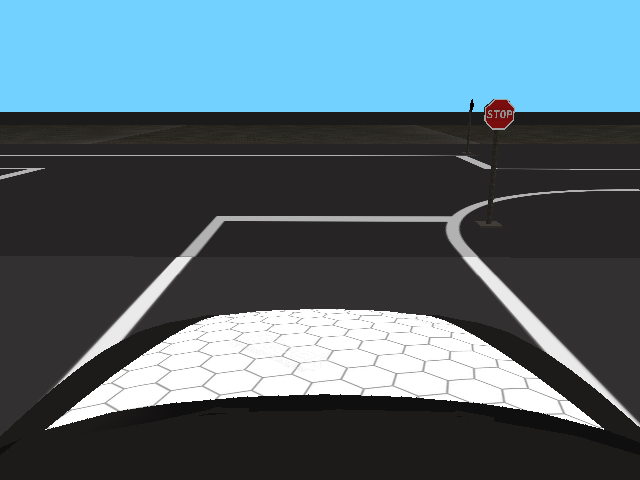stop: (483, 98, 515, 130)
